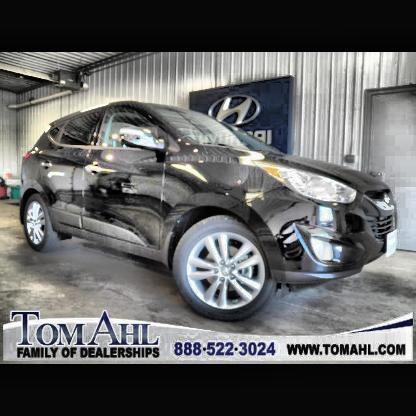Hyundai Tucson SUV 2012: (22, 102, 399, 322)
